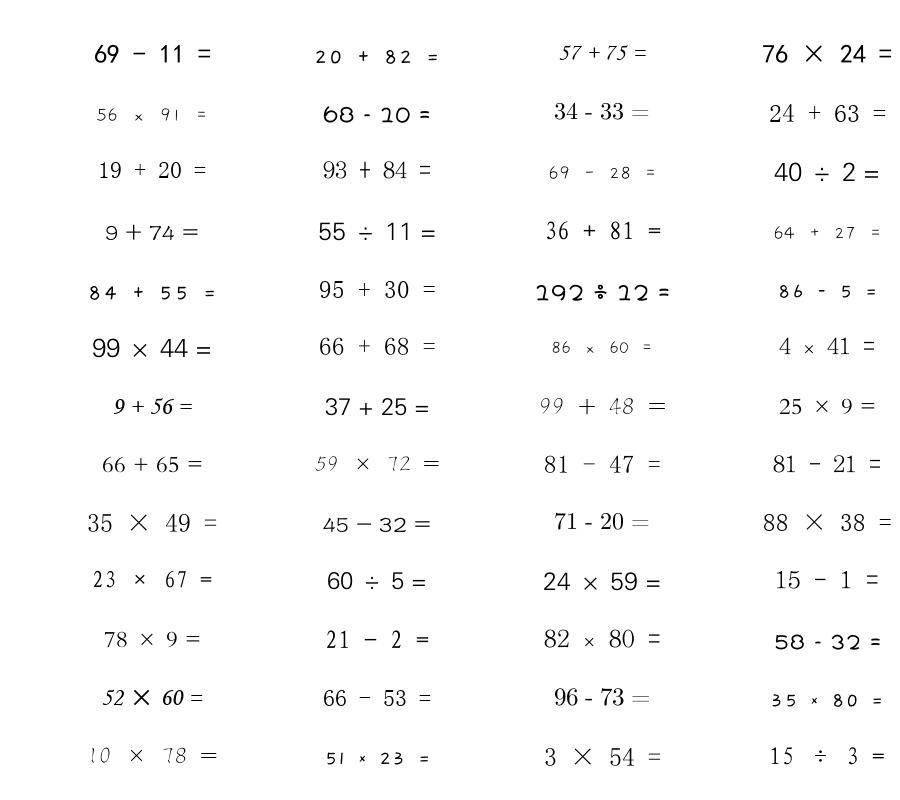MQ: (762, 44, 892, 63), (92, 338, 212, 358), (87, 514, 217, 532), (534, 284, 670, 301), (539, 397, 666, 415), (318, 222, 436, 241), (543, 572, 661, 591), (87, 747, 218, 764), (94, 44, 211, 63), (544, 221, 661, 240), (544, 629, 661, 648), (763, 514, 892, 531), (92, 570, 212, 588), (774, 162, 880, 182), (769, 104, 886, 122), (319, 337, 436, 355), (544, 455, 661, 473), (544, 748, 661, 766), (769, 747, 885, 765), (315, 456, 440, 472), (319, 281, 436, 298), (775, 570, 879, 589), (325, 630, 429, 649), (87, 285, 217, 300), (323, 161, 431, 179), (773, 455, 881, 473), (327, 571, 427, 590), (314, 49, 440, 64), (325, 398, 430, 416), (323, 106, 431, 123), (101, 689, 203, 706), (554, 102, 650, 120), (98, 162, 206, 178), (779, 337, 875, 355), (323, 517, 431, 533), (554, 512, 650, 530), (323, 690, 431, 706), (554, 688, 650, 706), (102, 456, 203, 473), (774, 634, 881, 650), (779, 398, 876, 415), (104, 631, 201, 648), (105, 224, 199, 241), (96, 108, 208, 122), (548, 166, 657, 180), (773, 226, 882, 240), (770, 694, 884, 707), (777, 284, 878, 298), (324, 752, 431, 765), (551, 341, 653, 354), (558, 45, 646, 60), (112, 398, 192, 414)
